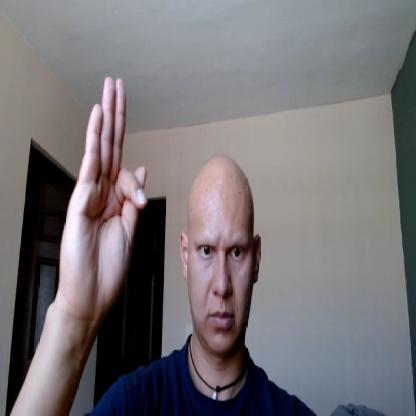F: (60, 74, 151, 309)
